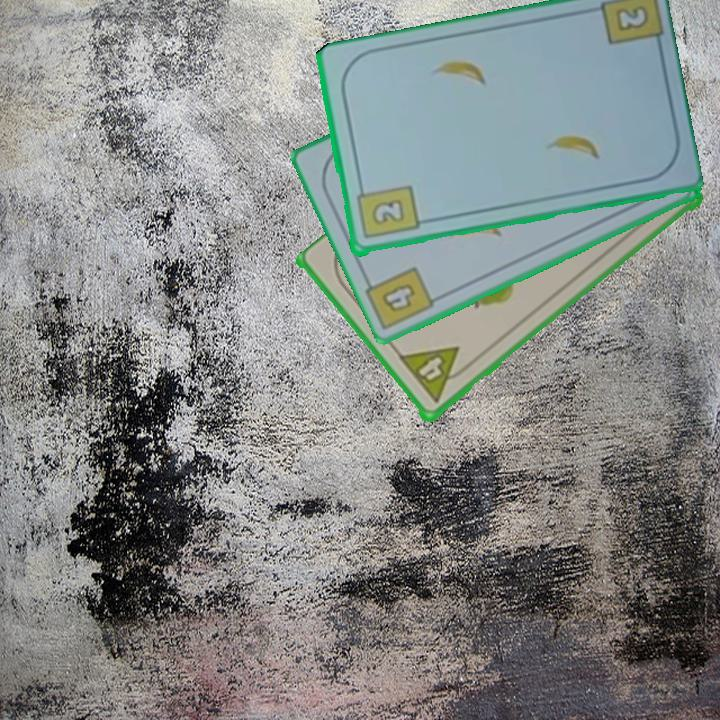2b: (353, 181, 421, 243), (611, 1, 652, 35)
4b: (377, 280, 418, 316)
4p: (396, 343, 474, 407)
